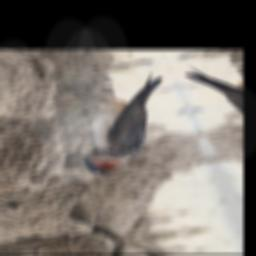Swallow: (46, 69, 205, 183)
